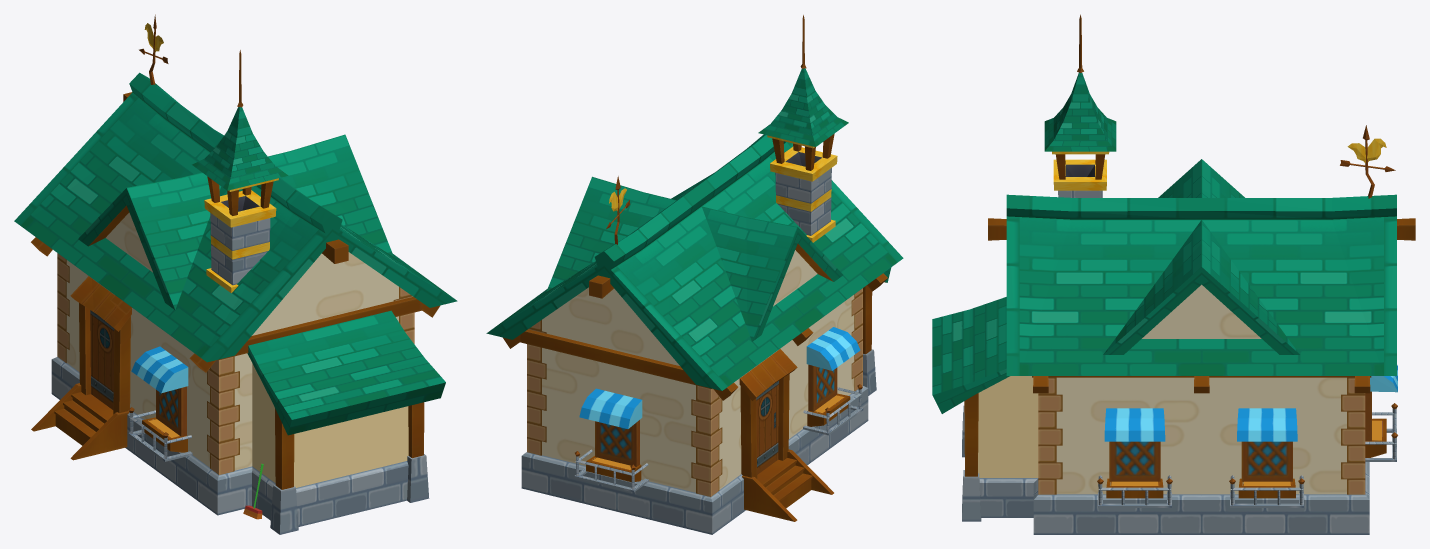
The model's file is HOS0110010.FBX.
The picture shows the model from 3 angles, left to right: view 1: azimuth 30°, elevation 25°; view 2: azimuth 150°, elevation 25°; view 3: azimuth 270°, elevation 25°; orthographic projection. The views are drawn at different scales.
Parts seen in each view (by area): view 1: smHOS0110010; view 2: smHOS0110010; view 3: smHOS0110010.
Boxes of the visible parts, <box> form: smHOS0110010: <box>14,14,457,534</box>; smHOS0110010: <box>486,15,903,534</box>; smHOS0110010: <box>932,14,1415,534</box>.
Size of the model in its own units: 6.96 by 10.35 by 10.22.
1 material, 1 textured.
